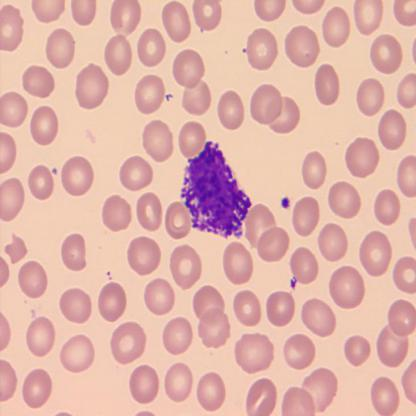Basophil: (179, 138, 253, 243)
